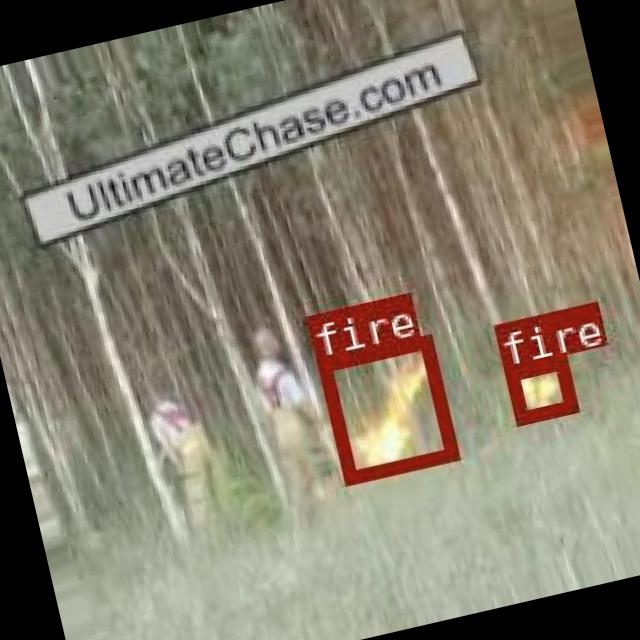fire: (314, 333, 456, 481), (502, 352, 574, 422)
